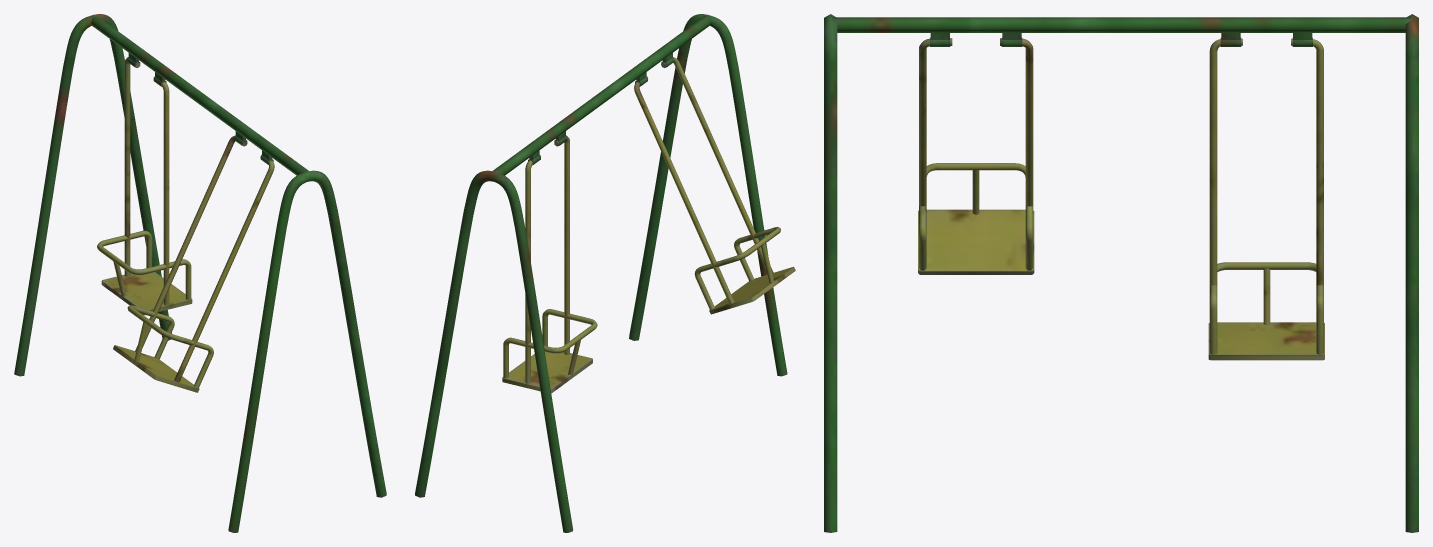
The model's file is play_400.glb.
3 renders of one model, left to right at view 1: azimuth 30°, elevation 25°; view 2: azimuth 150°, elevation 25°; view 3: azimuth 270°, elevation 25°, orthographic. The views are drawn at different scales.
Visible parts, largest first — view 1: play_400; view 2: play_400; view 3: play_400.
Boxes of the visible parts, box(x1,y1,x2,y2) form: play_400: box(14, 14, 386, 532); play_400: box(415, 14, 795, 532); play_400: box(824, 14, 1418, 532).
Size of the model in its own units: 1.34 by 2.2 by 2.55.
Materials: 1 (1 with a texture image).
